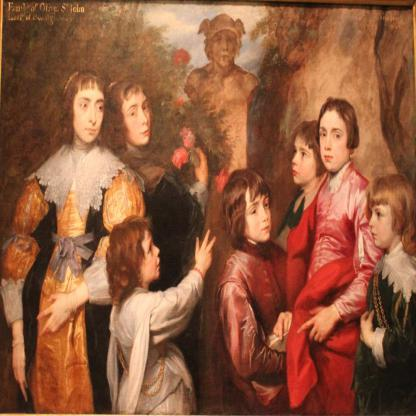face: (74, 81, 106, 144), (321, 111, 352, 172), (243, 186, 272, 242), (124, 90, 151, 147), (370, 197, 397, 247), (293, 136, 317, 184), (140, 231, 161, 279), (213, 25, 237, 67)
